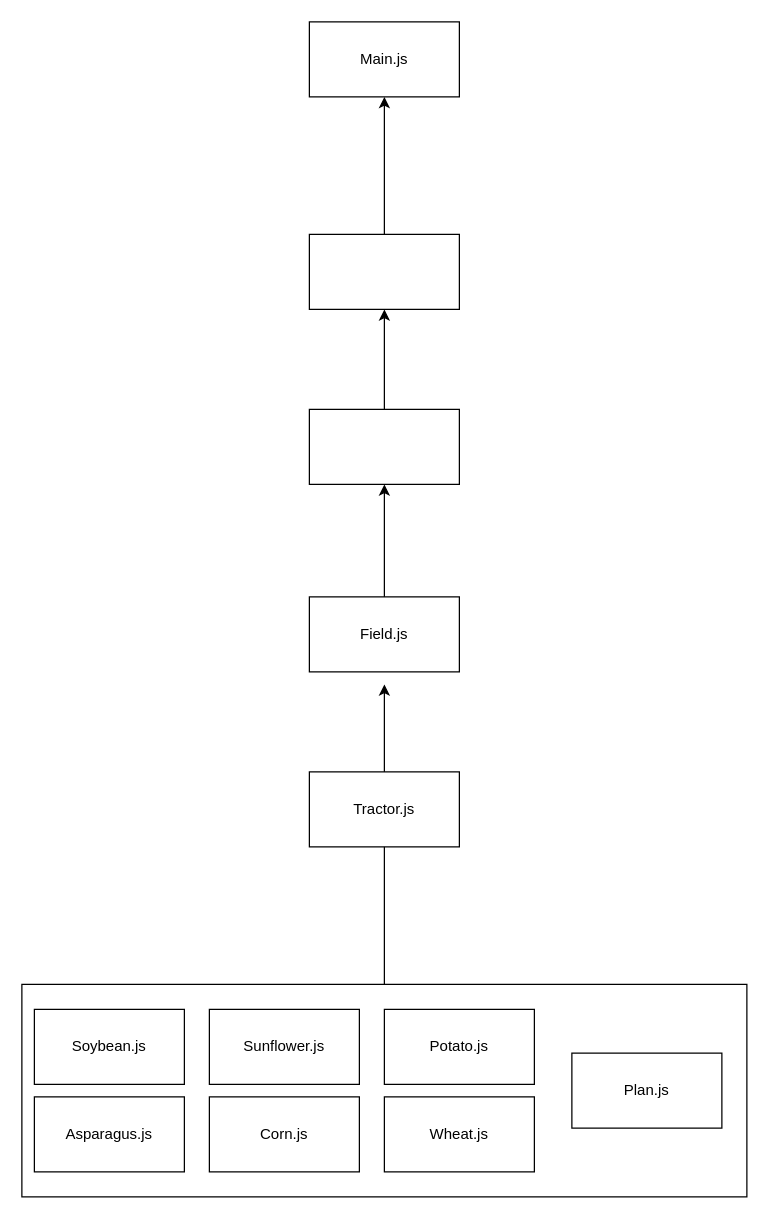
The diagram is 769 pixels wide and 1219 high, and some of its shapes have lost their labels. The box of each missing label's shape, as (x1, y1, x2, y2) in pixels:
Catalog.js: (308, 233, 459, 309)
Harvestor.js: (308, 408, 459, 484)
